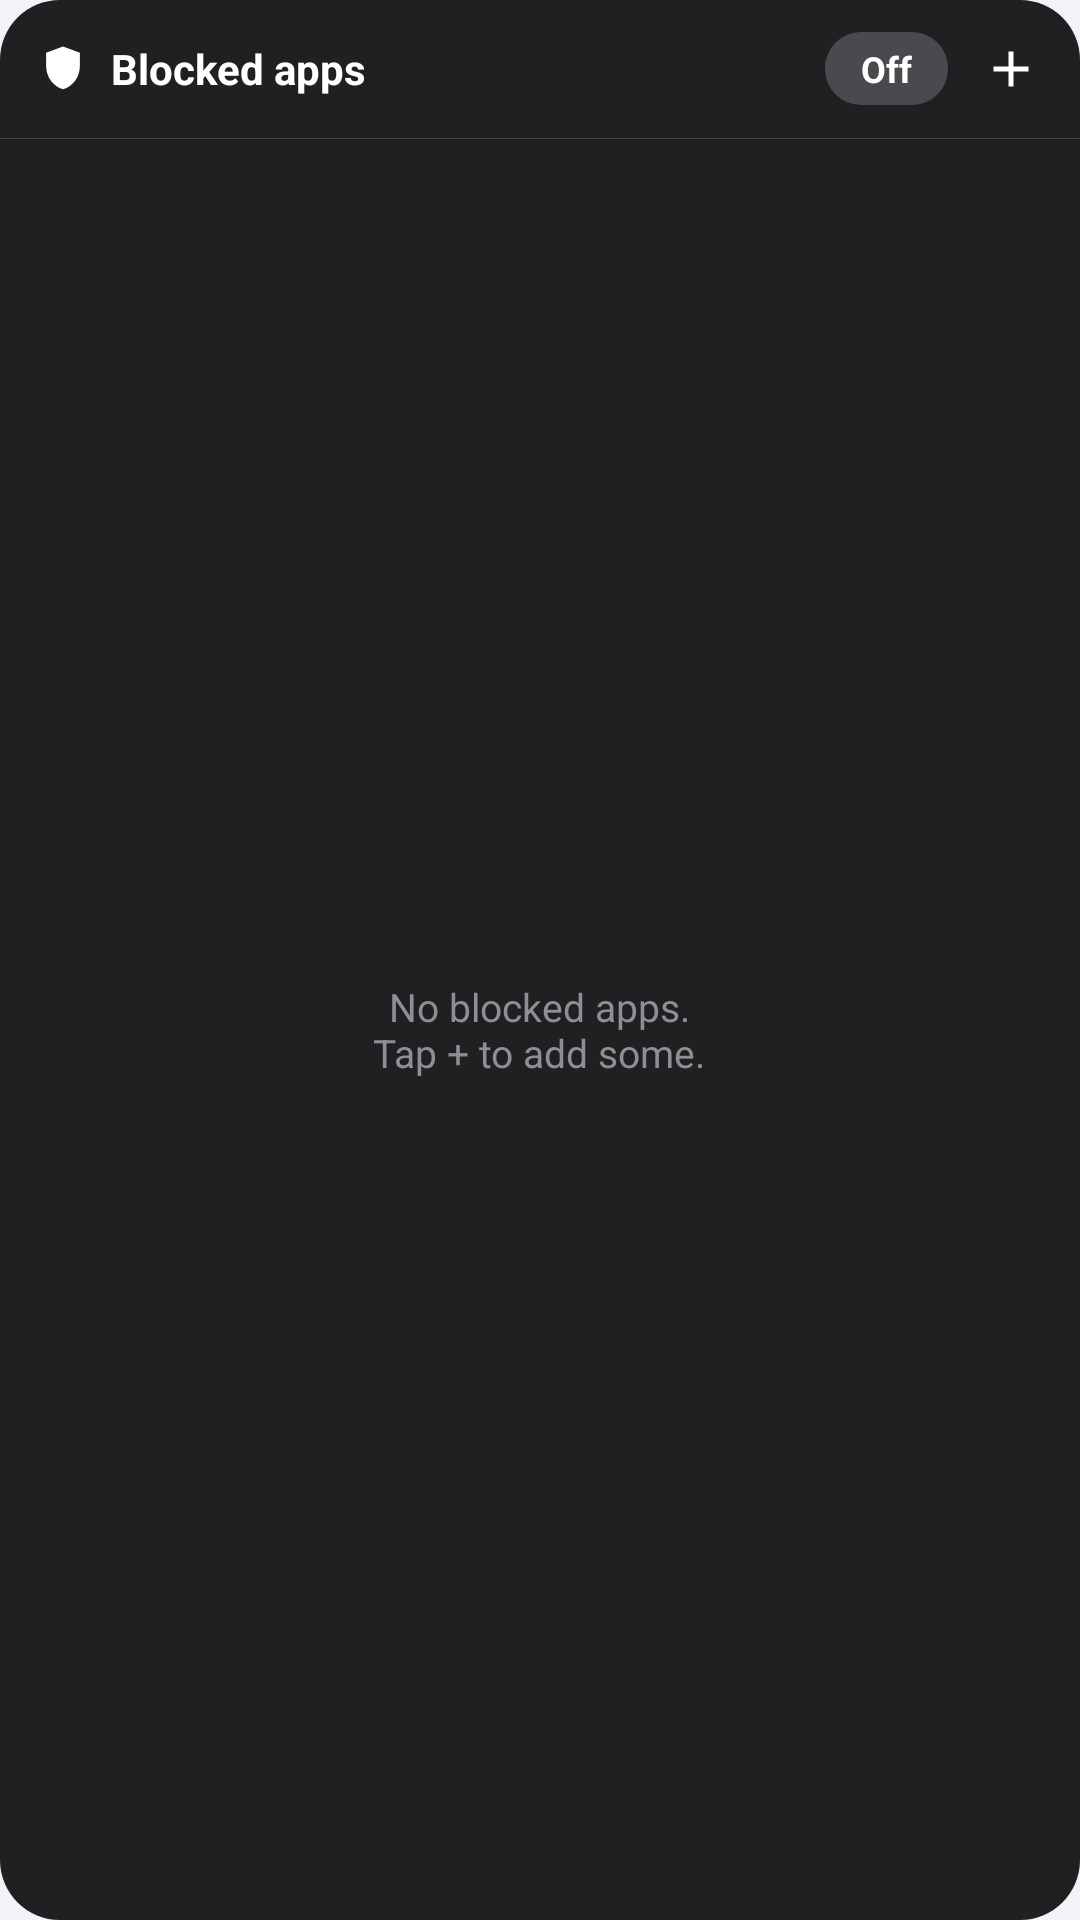

Screen size 1080px x 1920px. Icon name, then its box in pixels as rect(x1, y1, x2, y2):
Add apps to the block list: rect(993, 51, 1029, 87)
